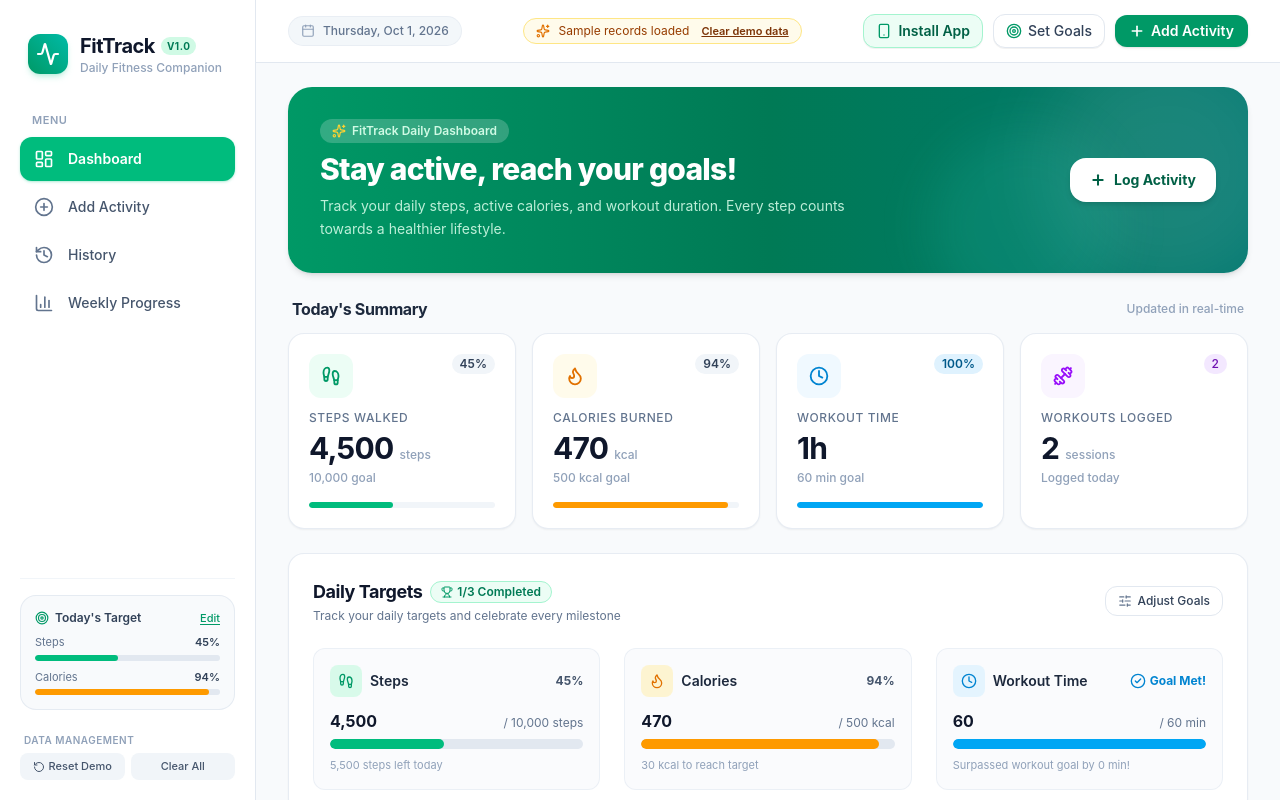
Test: FitTrack App - Complete User Flow › allows adjusting daily goals and reflects progress updates
Note: Click "Set Goals"
Click the button titled "Configure Daily Goals" at (1049, 31), box left=993, top=14, right=1105, bottom=48
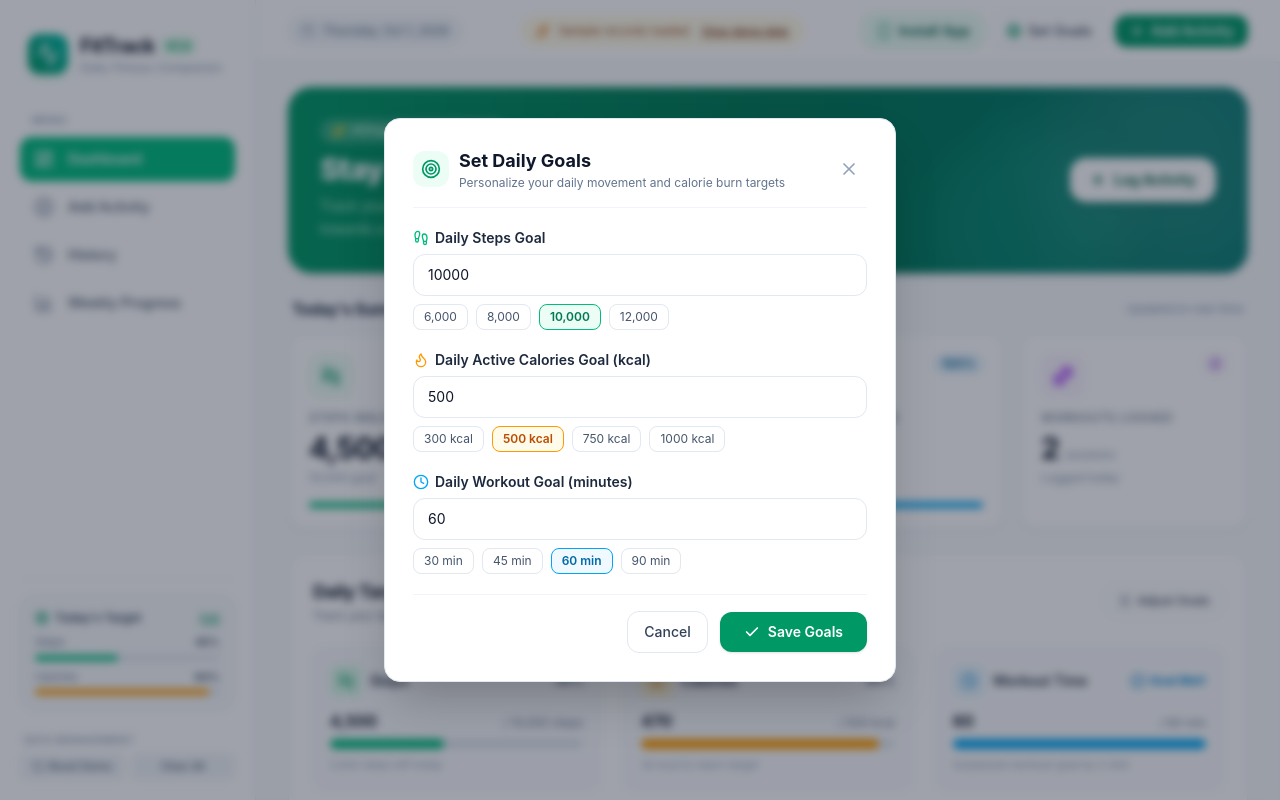
expect the heading "Set Daily Goals" is shown: met, box left=459, top=150, right=591, bottom=171
Note: Set new goal for steps to 12,000 using preset button
Click the button "12,000" at (639, 317), box left=609, top=304, right=669, bottom=330
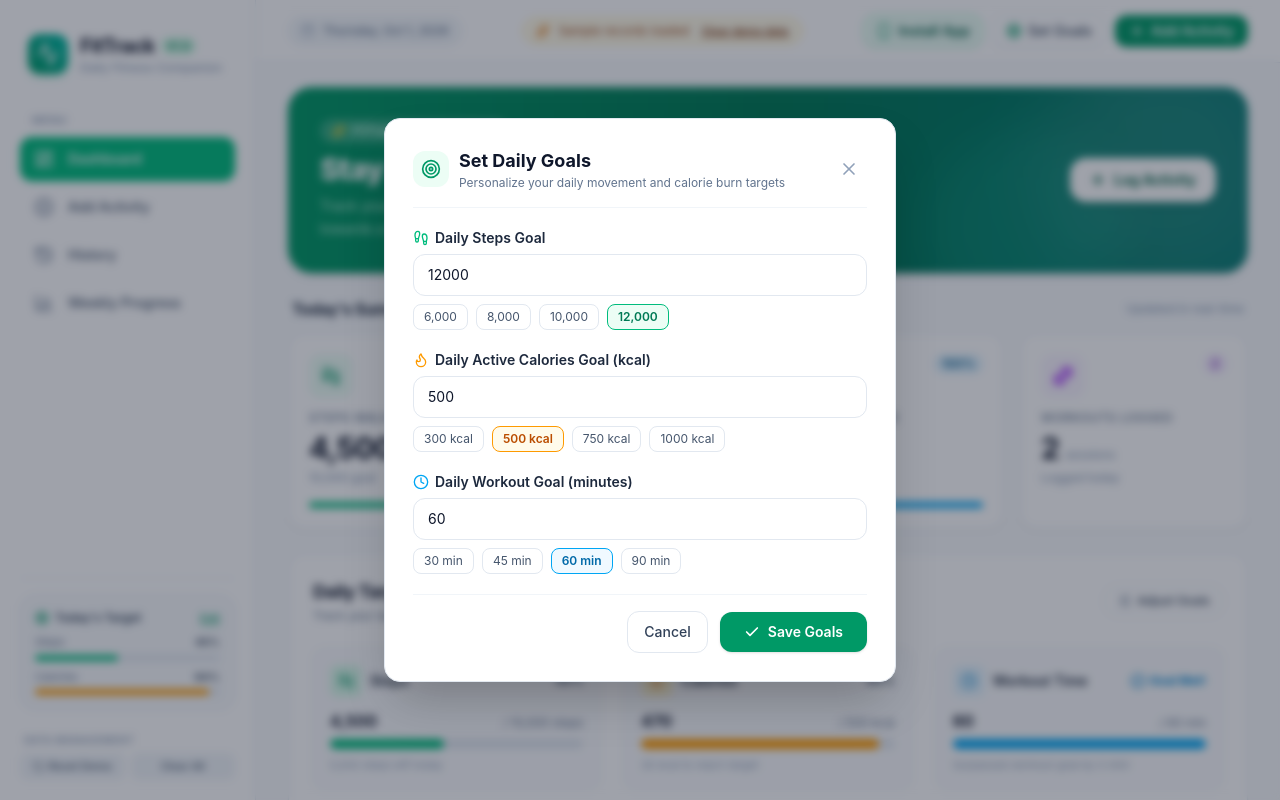
Note: Save goals
Submit the form named "Save Goals", box left=413, top=228, right=867, bottom=653
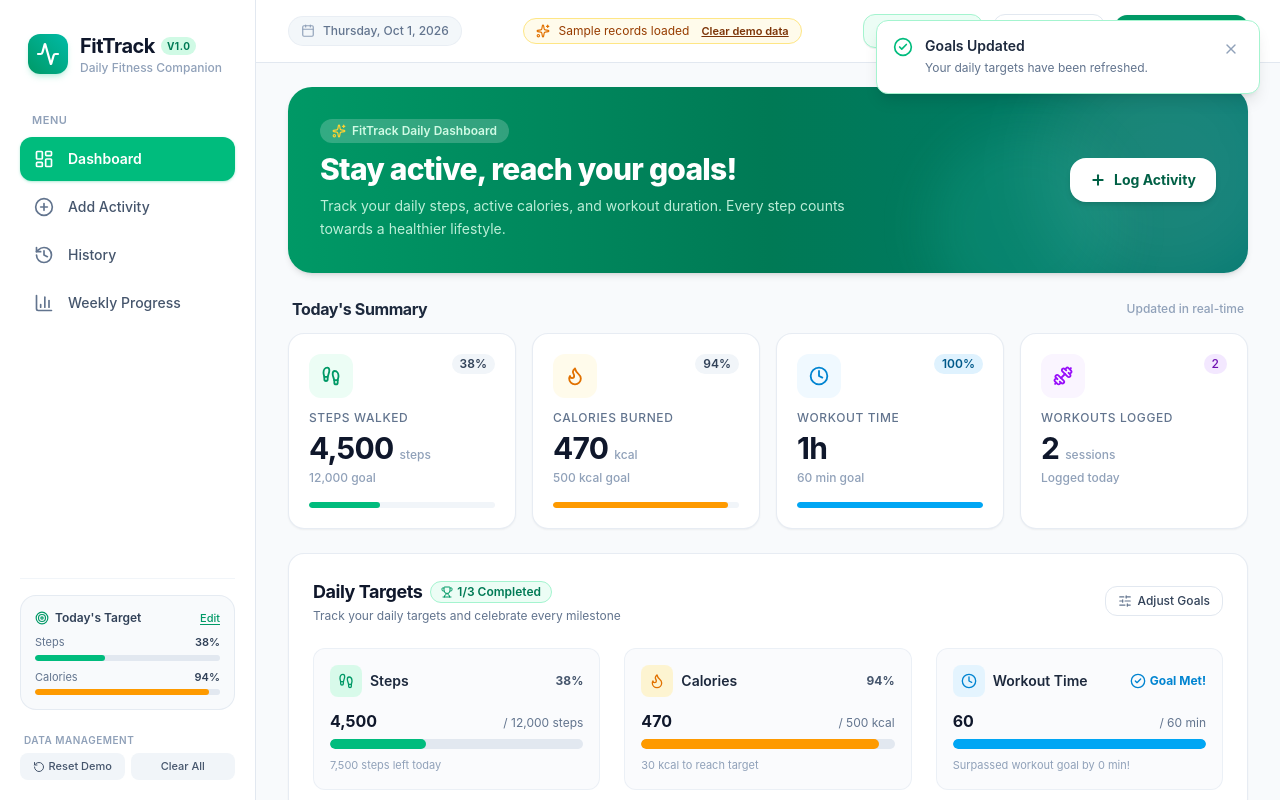
expect the heading "Goals Updated" is shown: met, box left=925, top=37, right=1025, bottom=54
expect the text "12,000 goal" is shown: met, box left=309, top=470, right=376, bottom=484
